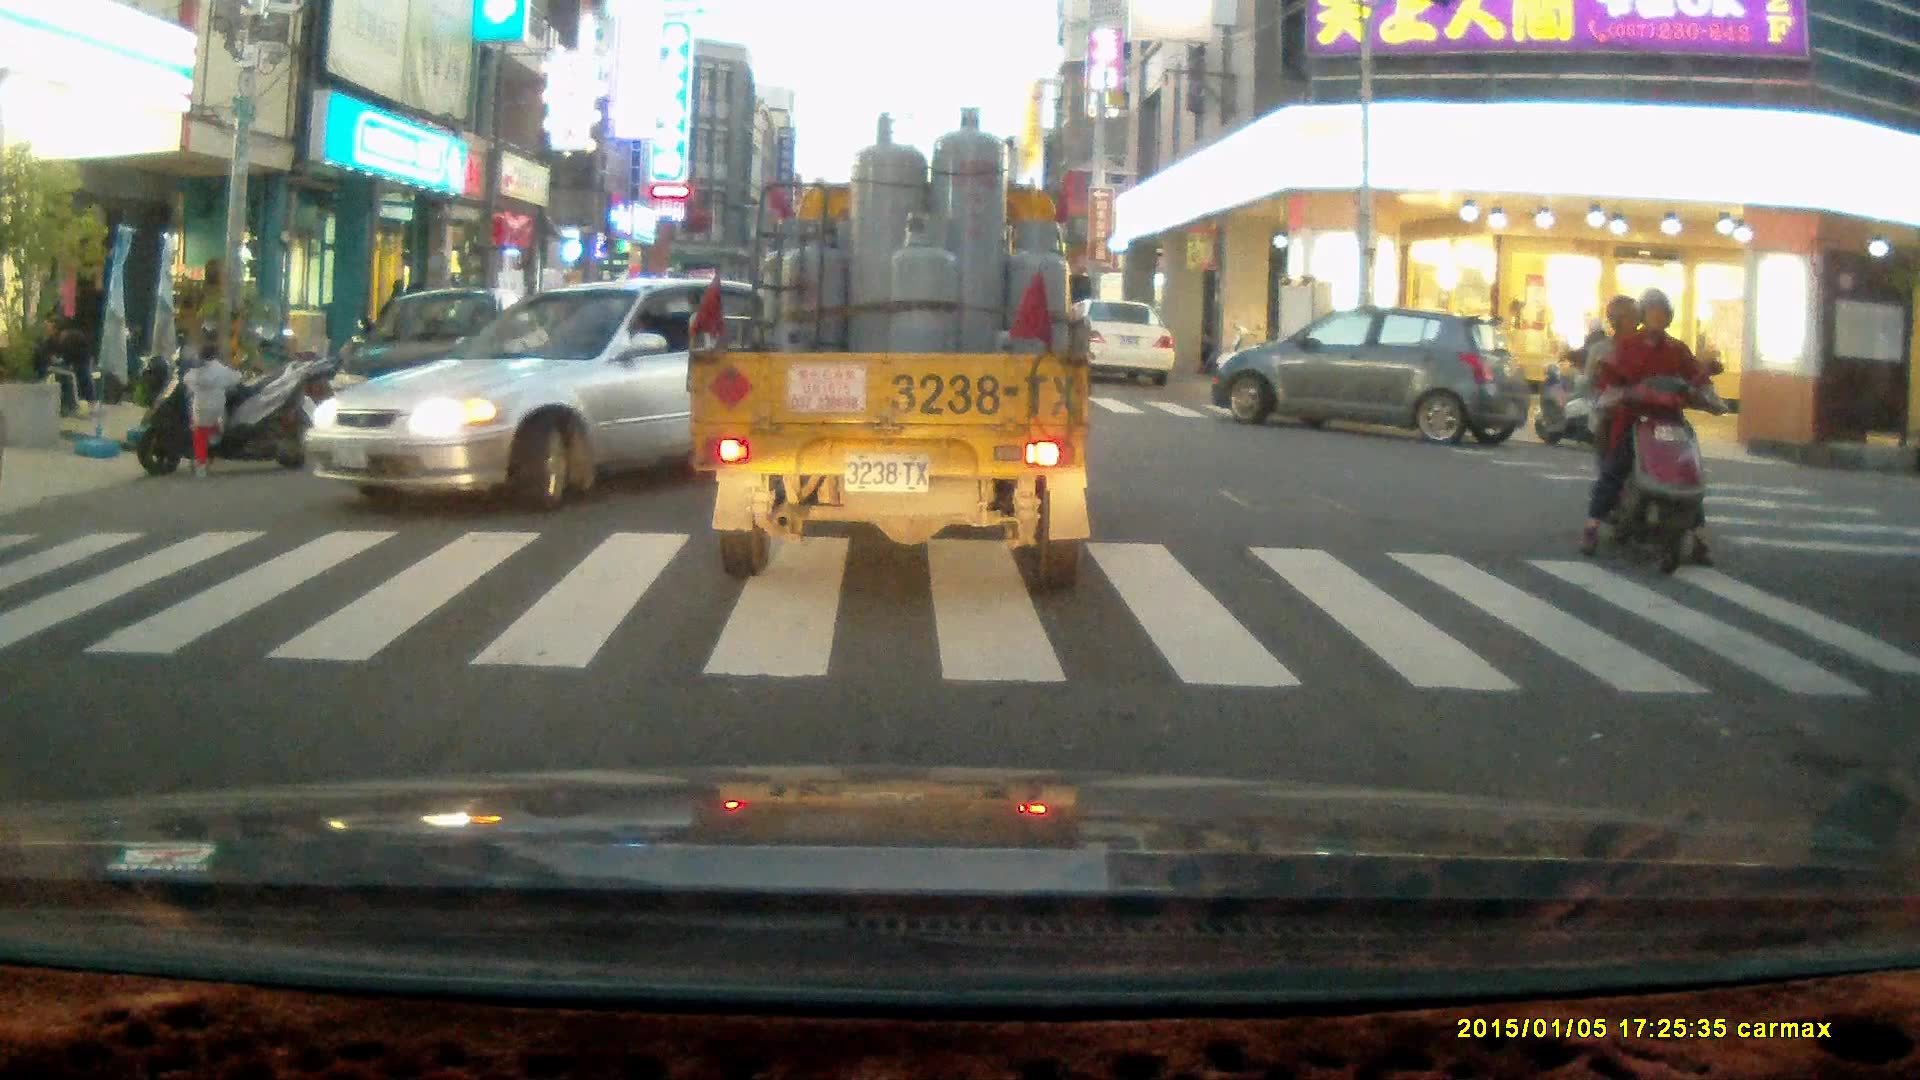pedestrian: (181, 342, 246, 479)
rider: (1572, 287, 1724, 576)
vehicle: (682, 107, 1090, 595), (308, 277, 859, 510), (1210, 308, 1521, 446), (324, 286, 554, 441), (1062, 298, 1180, 382)
